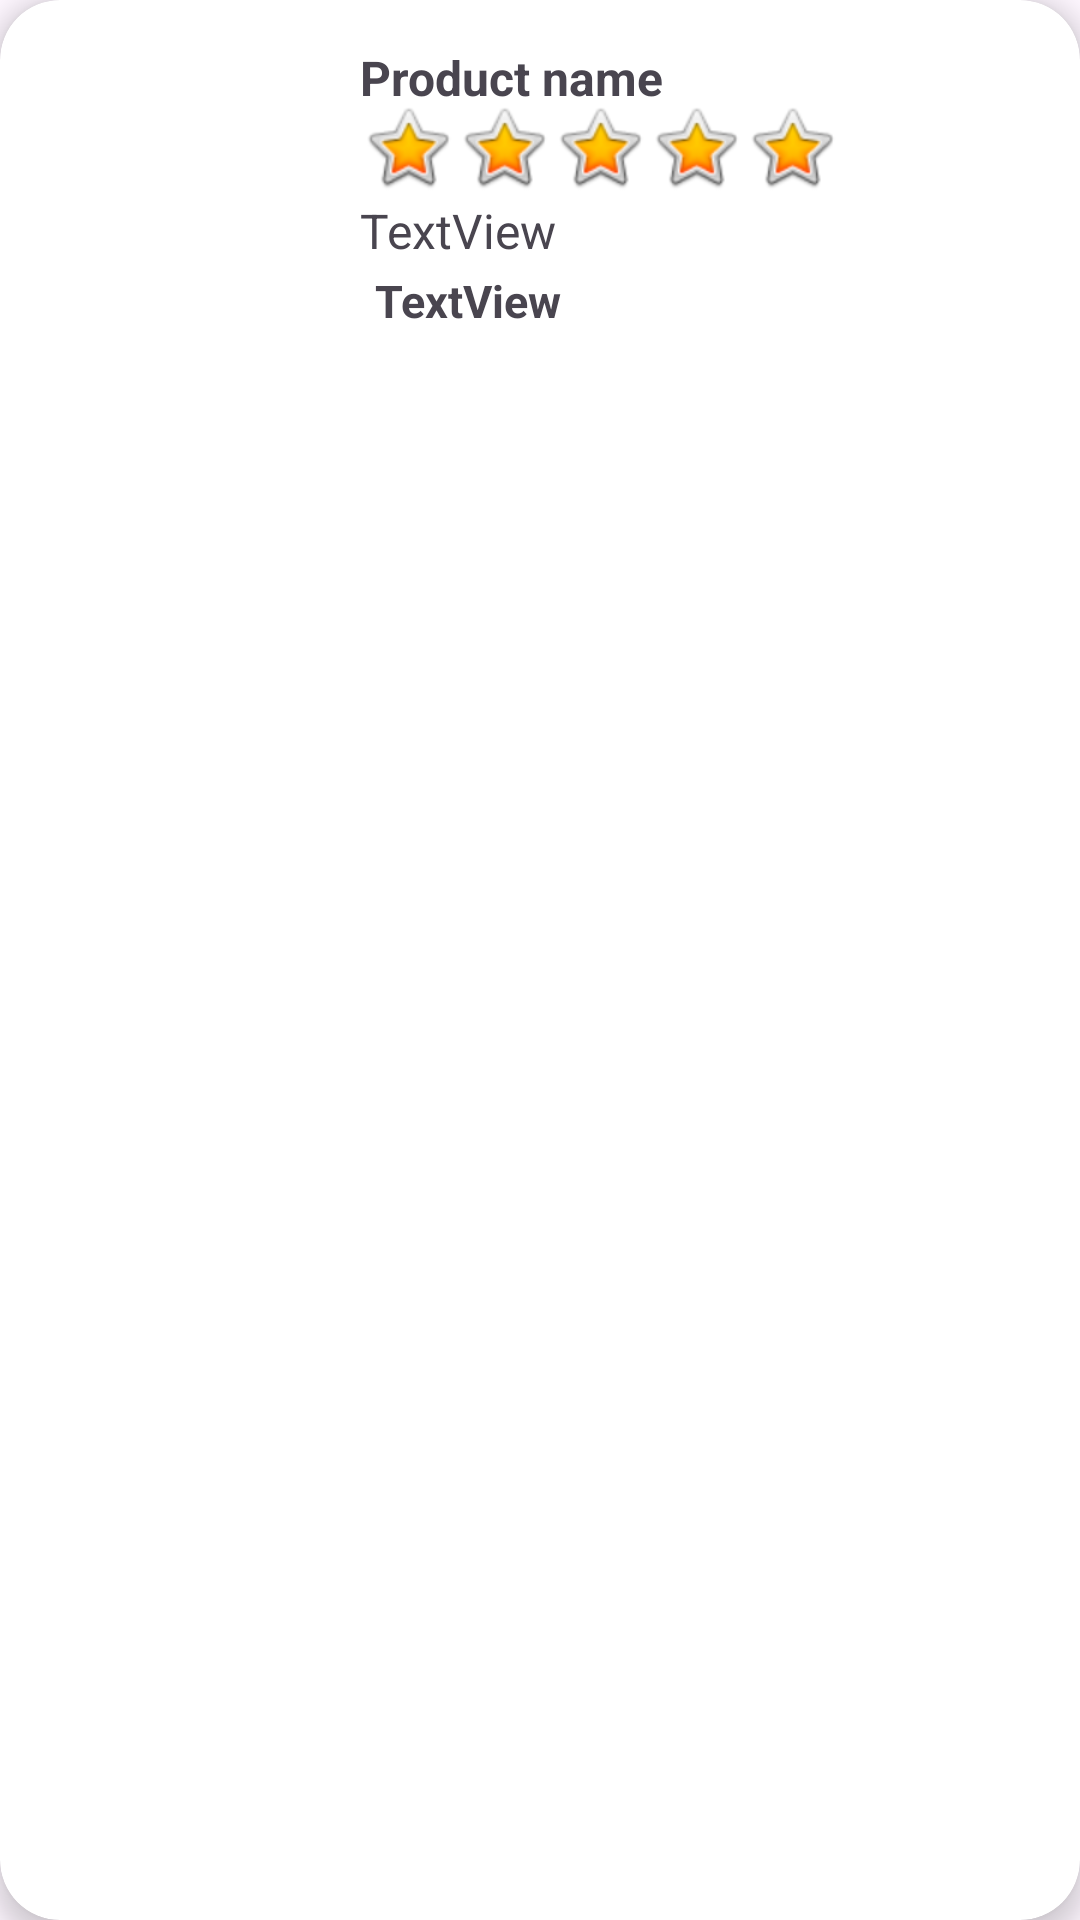

Locate icon controls on the screen. Image size 1080×1920, boxes as (x1, y1, x2, y2).
star on: (369, 109, 449, 187), (465, 109, 545, 187), (561, 109, 641, 187), (657, 109, 737, 187), (753, 109, 833, 187)
